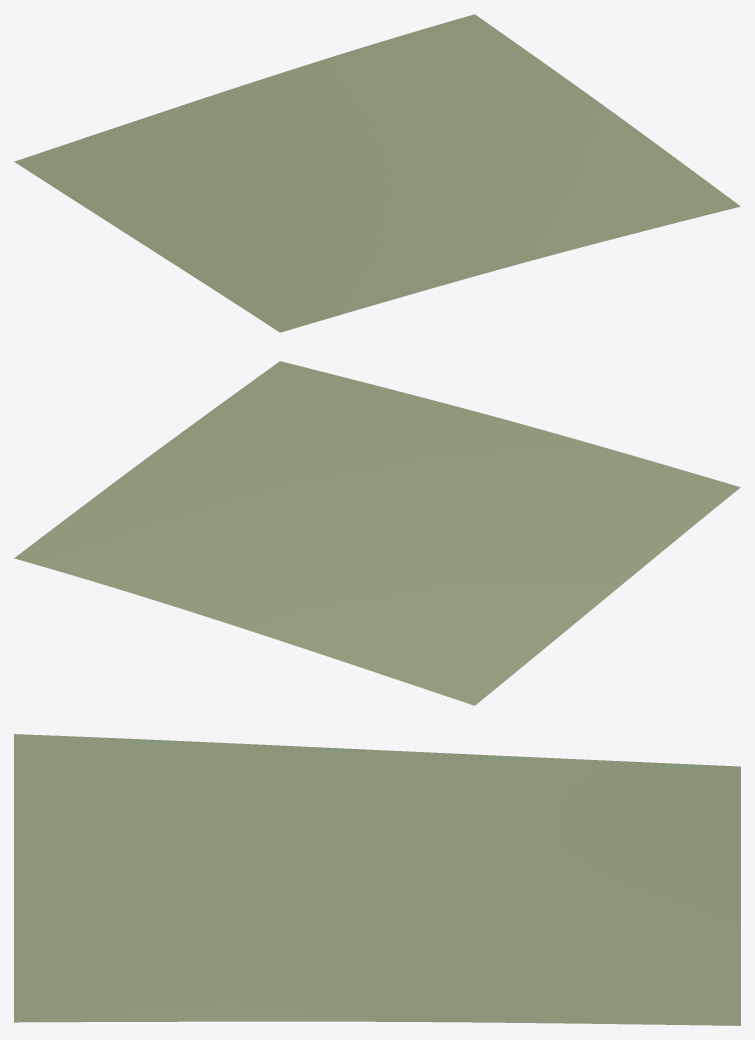
Rendered from desert-11-25.glb.
3 views of the same model, one above another, from view 1: azimuth 30°, elevation 25°; view 2: azimuth 150°, elevation 25°; view 3: azimuth 270°, elevation 25° (orthographic). The views are drawn at different scales.
Parts seen in each view (by area): view 1: desert-11-25; view 2: desert-11-25; view 3: desert-11-25.
Boxes of the visible parts, x1,y1,x2,y2 form: desert-11-25: [14, 14, 740, 332]; desert-11-25: [14, 361, 740, 705]; desert-11-25: [14, 734, 740, 1025].
Bounding box in the file's own units: 512 × 40.49 × 512.
